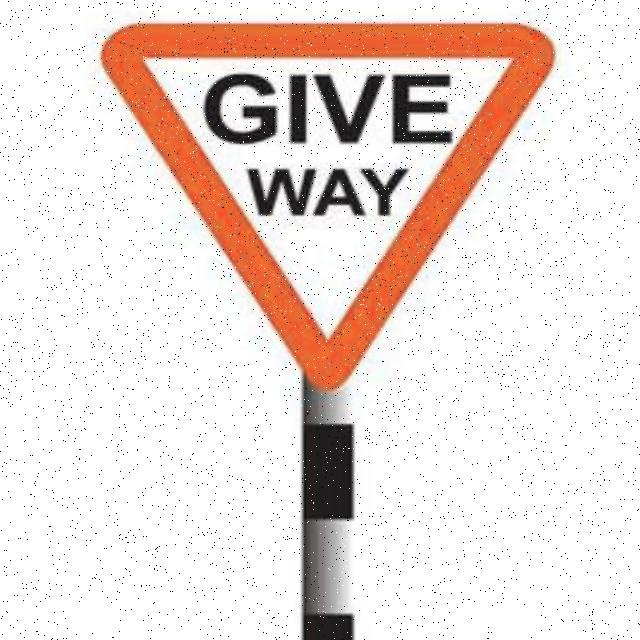giveway: (101, 9, 548, 395)
